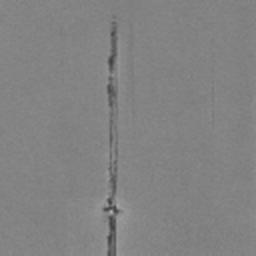Slag inclusion: (103, 160, 119, 256), (108, 22, 117, 73), (107, 77, 117, 109)
